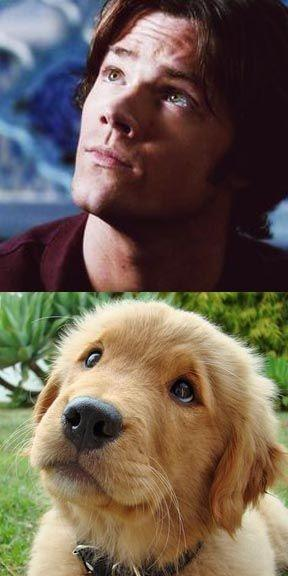non-dog: (0, 0, 288, 292)
puppy-dog: (20, 300, 286, 576)
